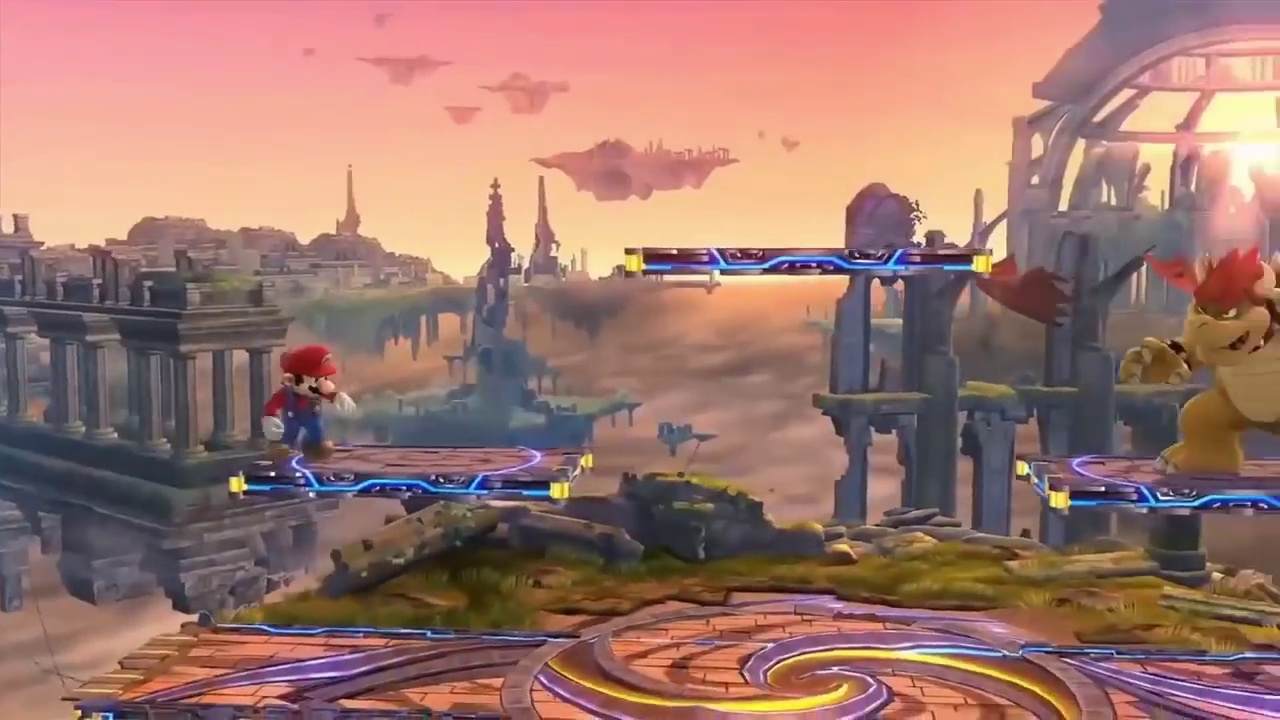Mario: (260, 347, 355, 463)
